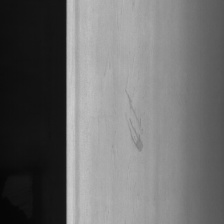water_spot: (122, 86, 153, 150)
